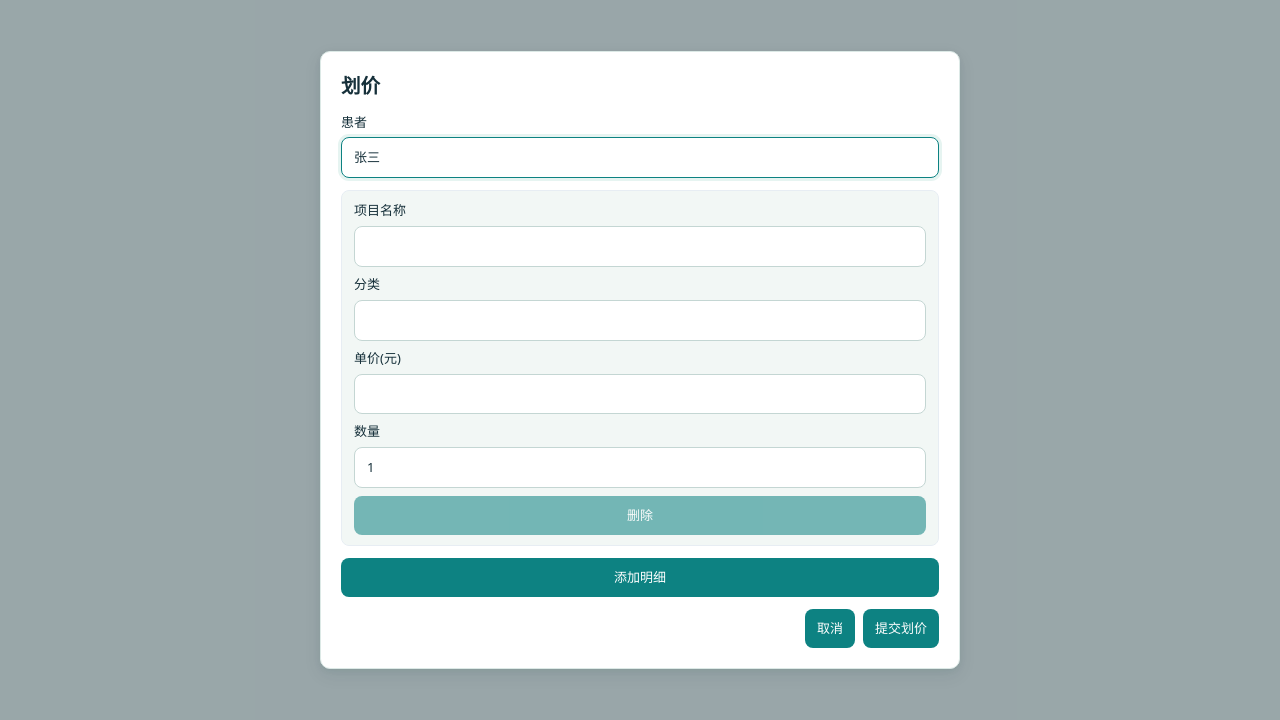
Test: ChargeDialog › validates items and submits a valid charge
This screenshot has width=1280, height=720.
Expected: the field labelled "患者" holds "张三", [341,138,939,178]
Click the button "提交划价". click: [901, 628]
box: [863,609,939,648]
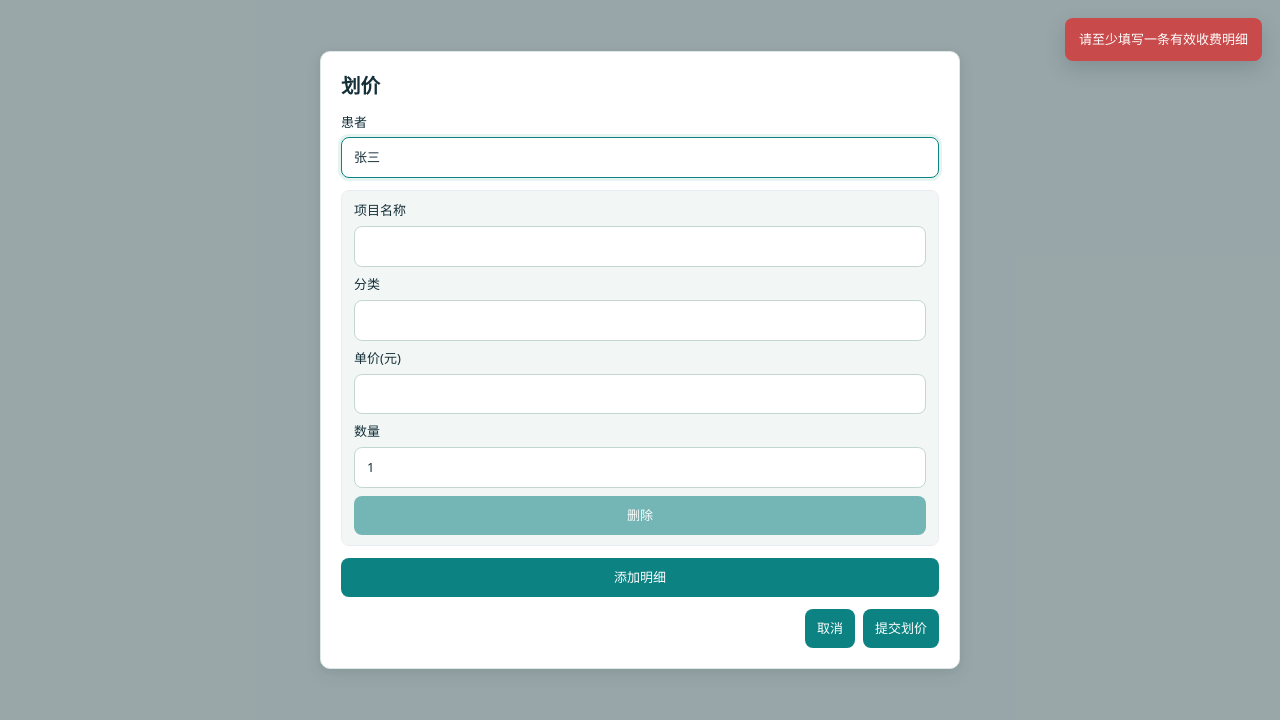
Expected: the text "请至少填写一条有效收费明细" is shown, [1065,18,1262,61]
Type "洁牙" into the field labelled "项目名称". click: [640, 247]
box: [354,226,926,267]
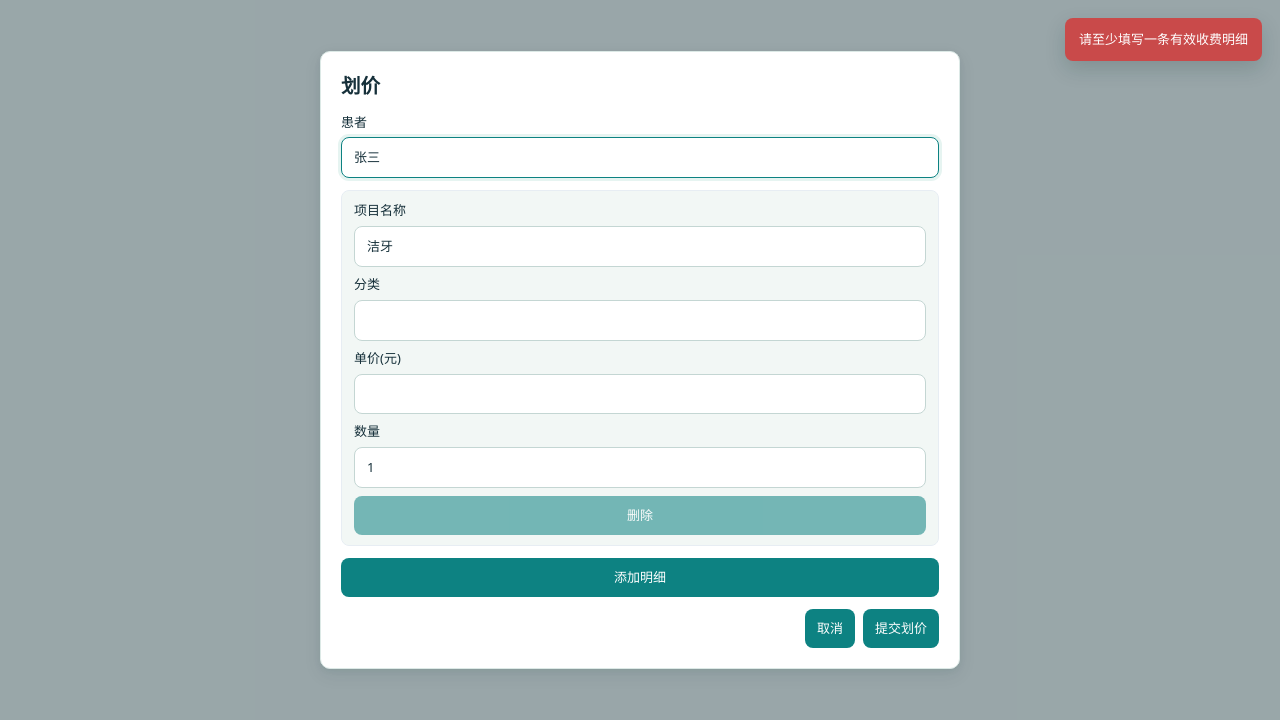
Type "CLEAN" into the field labelled "分类". click: [640, 320]
box: [354,300,926,341]
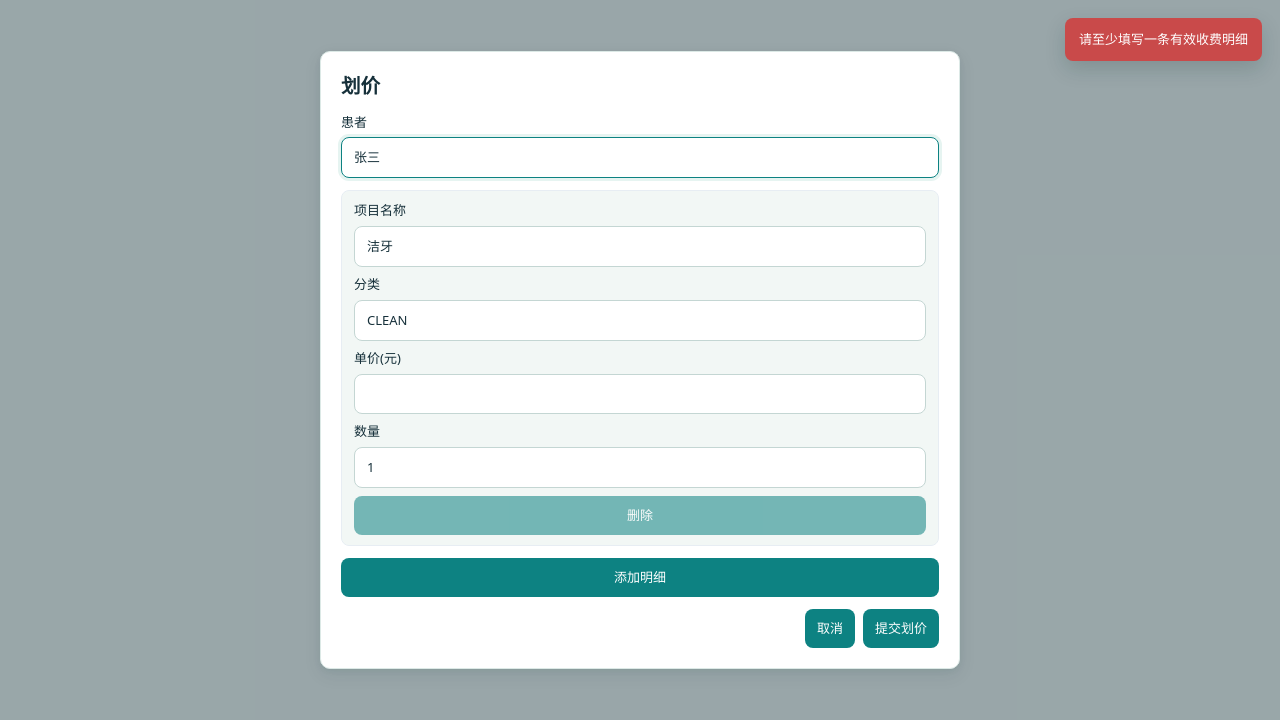
Type "100" into the number field labelled "单价(元)". click: [640, 394]
box: [354,374,926,414]
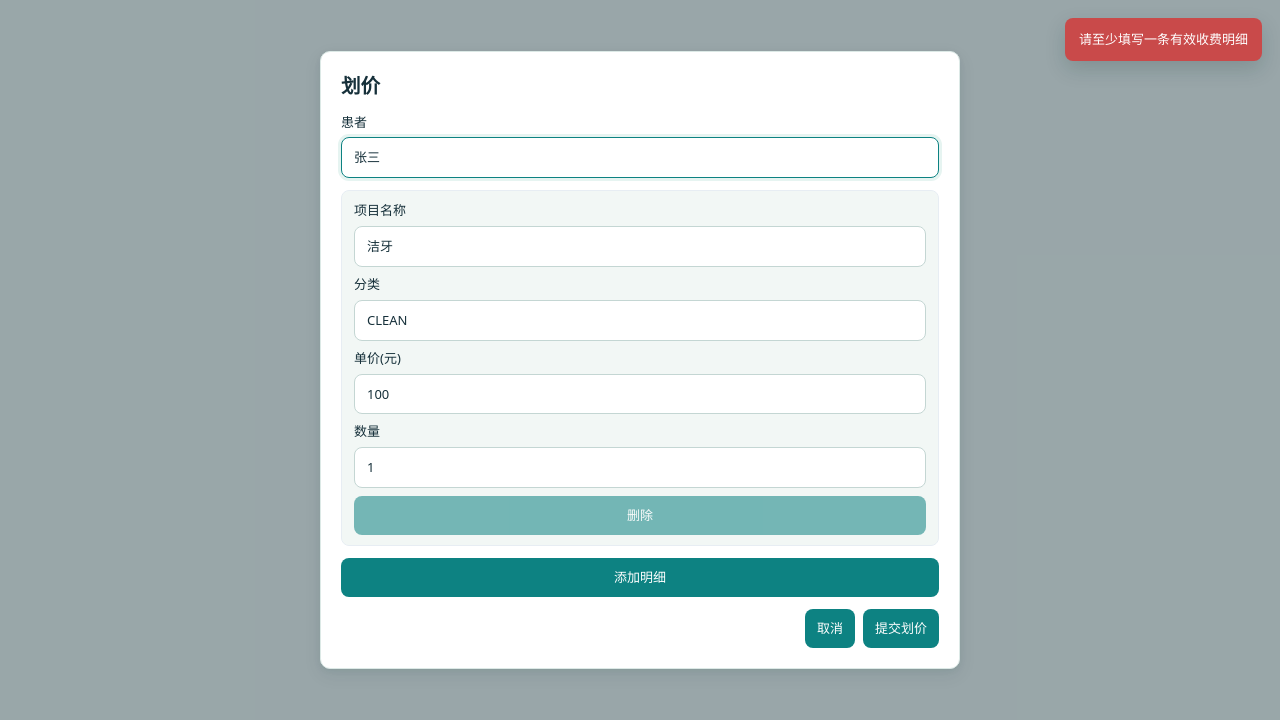
Replace the text in the number field labelled "数量" with "2". click: [640, 468]
box: [354,447,926,488]
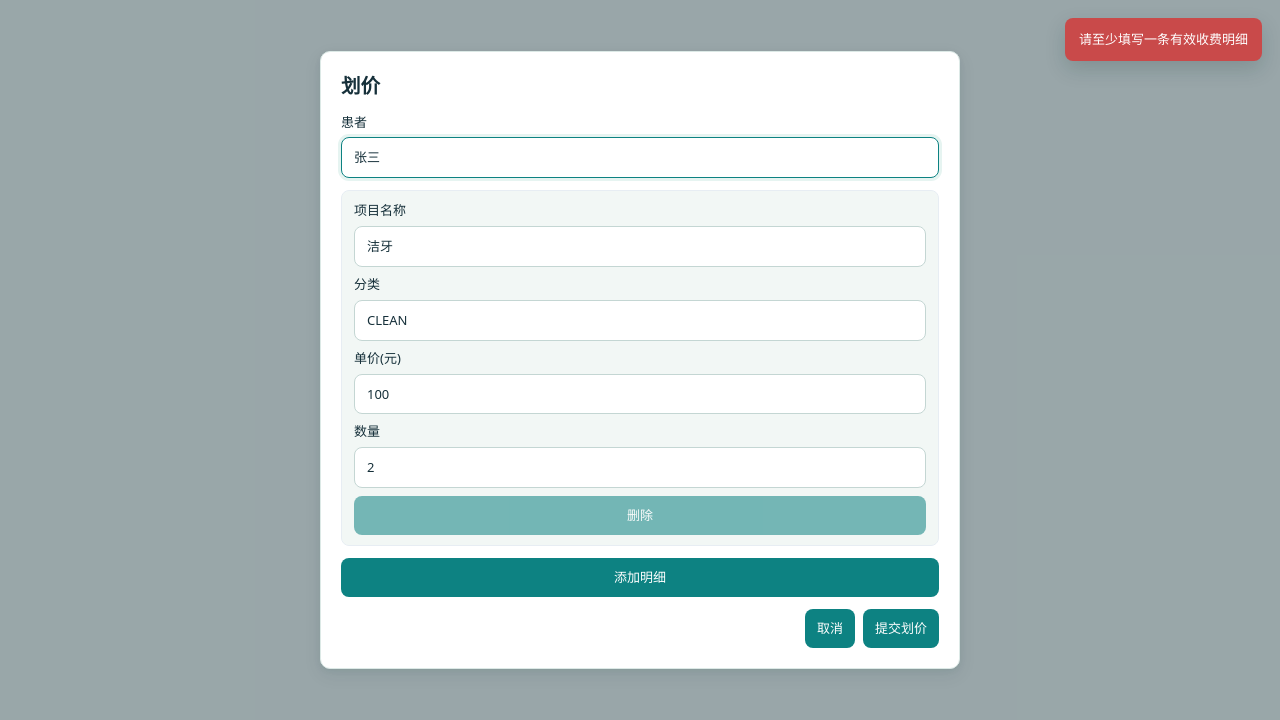
Click the button "提交划价". click: [901, 628]
box: [863,609,939,648]
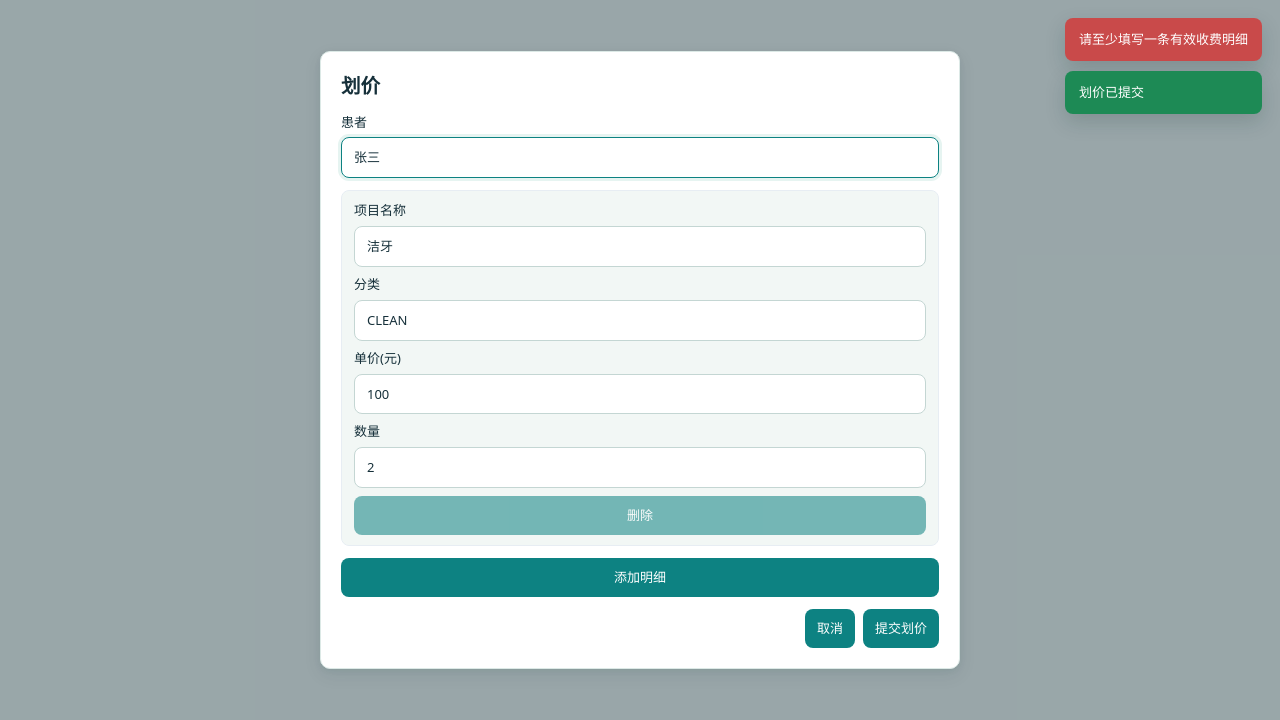
Expected: the text "划价已提交" is shown, [1065,71,1262,114]
